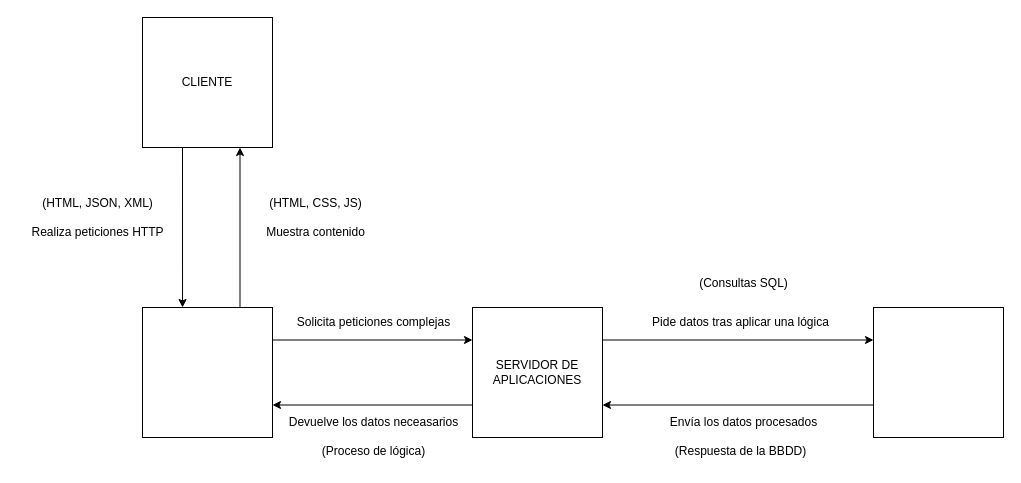
This 1021x483 diagram has some shape labels left out. Each missing label, with the centre of its shape:
"BBDD" goes at (938,372).
"SERVIDOR WEB" goes at (207,372).
